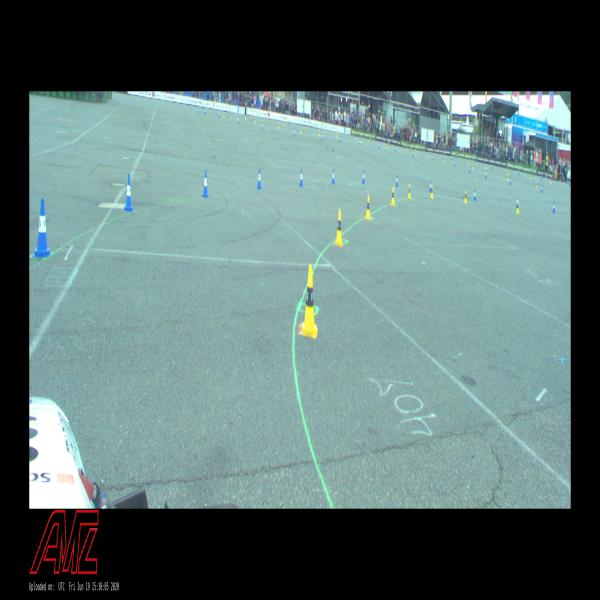blue_cone: (32, 198, 52, 258), (124, 174, 133, 211), (202, 170, 209, 198), (257, 168, 262, 189), (299, 168, 303, 187), (331, 168, 335, 185), (362, 169, 365, 184), (395, 174, 398, 187), (473, 189, 476, 200), (552, 202, 555, 213), (429, 180, 431, 192), (516, 196, 518, 207), (541, 184, 543, 192), (510, 178, 512, 185), (378, 142, 380, 149), (468, 166, 470, 173), (485, 171, 487, 178), (218, 111, 220, 118), (412, 151, 414, 157), (394, 146, 396, 151), (294, 128, 295, 136), (431, 156, 433, 160), (359, 138, 360, 146), (321, 133, 322, 140), (238, 117, 239, 124), (454, 160, 455, 166), (262, 122, 263, 128)
yellow_cone: (300, 265, 318, 339), (334, 208, 343, 246), (365, 194, 371, 220), (391, 186, 395, 206), (408, 183, 412, 199), (516, 201, 520, 213), (464, 190, 467, 203), (430, 185, 433, 198), (277, 121, 279, 130), (300, 126, 302, 134), (318, 129, 320, 136), (506, 173, 508, 180), (484, 163, 486, 170), (467, 160, 469, 166), (360, 137, 362, 143), (536, 180, 537, 188), (238, 113, 239, 120), (472, 164, 473, 170), (428, 151, 429, 157), (255, 117, 256, 123), (443, 157, 444, 162), (451, 157, 452, 162)
